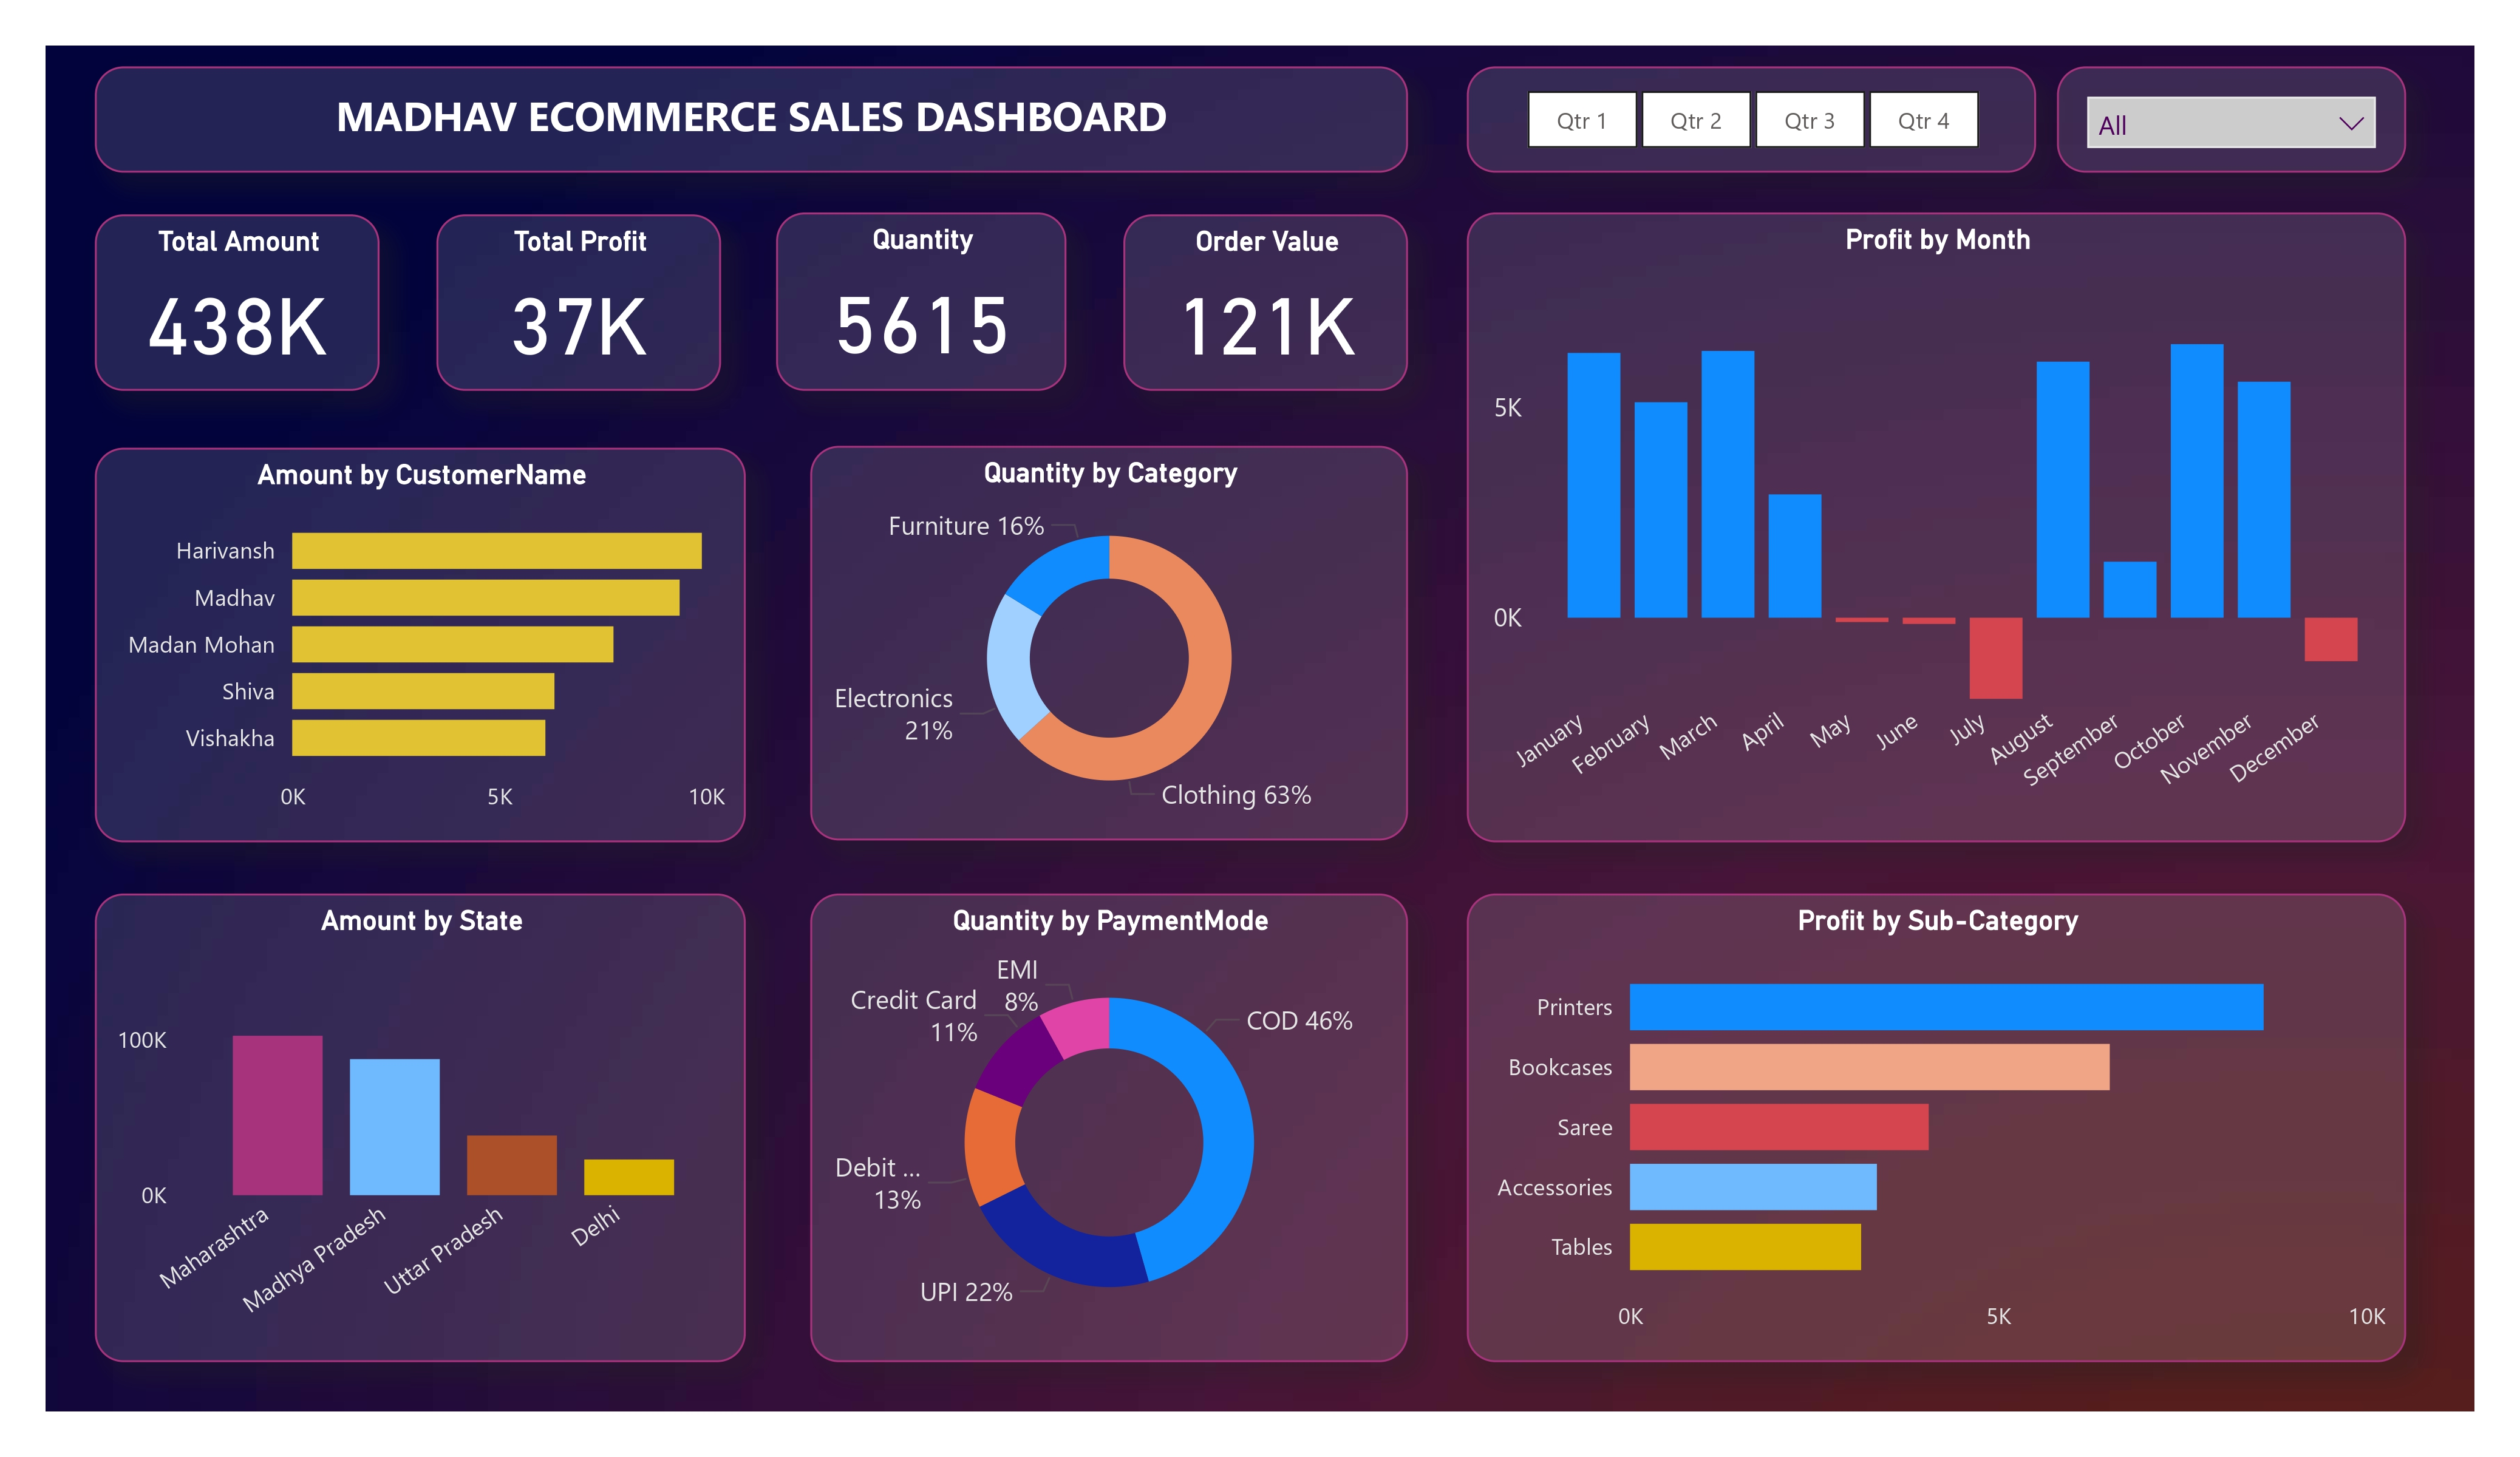

The dashboard page shown, as its layout file describes it:
{"tool":"powerbi","page":{"name":"DashBoard","canvas":[1280,720],"ordinal":0},"visuals":[{"type":"textbox","box":[26.2,11,692.3,56.4],"z":0},{"type":"columnChart","title":"Profit by Month","fields":{"Y":["Details.Profit"],"Category":["Orders.Order Date.Variation.Date Hierarchy.Month"]},"box":[748.7,88.1,495.5,331.7],"z":1000},{"type":"barChart","title":"Profit by Sub-Category","fields":{"Category":["Details.Sub-Category"],"Y":["Details.Profit"]},"box":[748.7,447.3,495.5,246.4],"z":2000},{"type":"donutChart","title":"Quantity by PaymentMode","fields":{"Y":["Details.Quantity"],"Category":["Details.PaymentMode"]},"box":[403.3,447.3,315.2,246.4],"z":3000},{"type":"donutChart","title":"Quantity by Category","fields":{"Category":["Details.Category"],"Y":["Details.Quantity"]},"box":[403.3,211.3,315.2,207.8],"z":4000},{"type":"card","title":"Total Amount","fields":{"Values":["Details.Amount"]},"box":[26.2,88.7,150,93.6],"z":5000},{"type":"card","title":"Quantity","fields":{"Values":["Details.Quantity"]},"box":[385.4,88.1,152.8,93.6],"z":6000},{"type":"card","title":"Total Profit","fields":{"Values":["Details.Profit"]},"box":[206,88.7,150,93.6],"z":7000},{"type":"card","title":"Order Value","fields":{"Values":["Details.AVG_ORDER_VALUE"]},"box":[568.4,88.7,150,93.6],"z":8000},{"type":"columnChart","title":"Amount by State","fields":{"Category":["Orders.State"],"Y":["Details.Amount"]},"box":[26.2,447.3,342.7,246.4],"z":9000},{"type":"barChart","title":"Amount by CustomerName","fields":{"Category":["Orders.CustomerName"],"Y":["Details.Amount"]},"box":[26.2,212,342.7,207.8],"z":10000},{"type":"slicer","fields":{"Values":["Orders.Order Date.Variation.Date Hierarchy.Quarter"]},"box":[748.7,11,300,56.4],"z":11000},{"type":"slicer","fields":{"Values":["Orders.State"]},"box":[1059.8,11,184.4,56.4],"z":12000}]}

Visuals, with their boxes on the page's 1280x720 design canvas (x1, y1, x2, y2). These are canvas units, not pixel positions in the 2520x1457 screenshot, which may show the page scaled, cropped or inside an application window:
textbox: [26,11,718,67]
"Profit by Month" columnChart: [749,88,1244,420]
"Profit by Sub-Category" barChart: [749,447,1244,694]
"Quantity by PaymentMode" donutChart: [403,447,718,694]
"Quantity by Category" donutChart: [403,211,718,419]
"Total Amount" card: [26,89,176,182]
"Quantity" card: [385,88,538,182]
"Total Profit" card: [206,89,356,182]
"Order Value" card: [568,89,718,182]
"Amount by State" columnChart: [26,447,369,694]
"Amount by CustomerName" barChart: [26,212,369,420]
slicer - Orders.Order Date.Variation.Date Hierarchy.Quarter: [749,11,1049,67]
slicer - Orders.State: [1060,11,1244,67]
